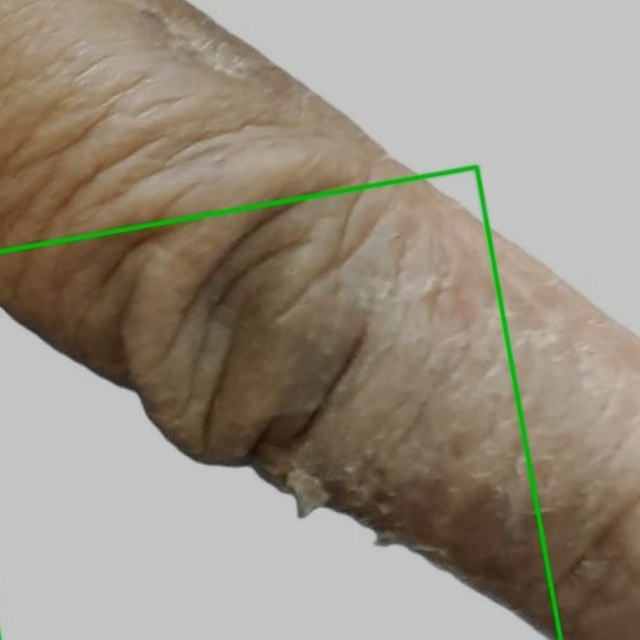Eczema: (0, 166, 560, 639)
